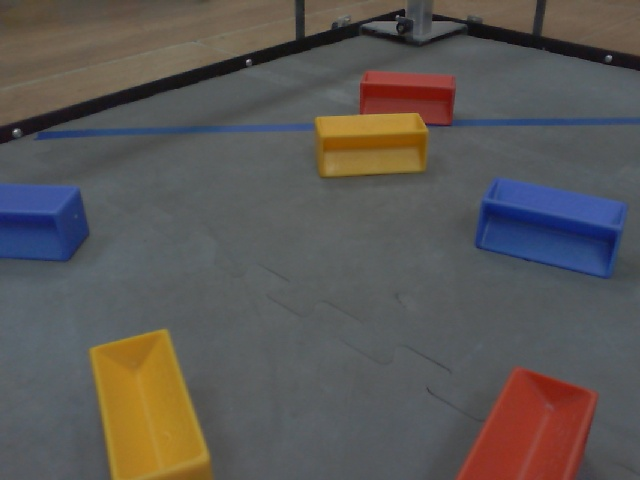BlueSample: (470, 176, 628, 283), (1, 178, 90, 264)
RedSample: (446, 360, 595, 480), (355, 61, 458, 128)
YellowSample: (85, 327, 226, 480), (307, 107, 433, 180)
